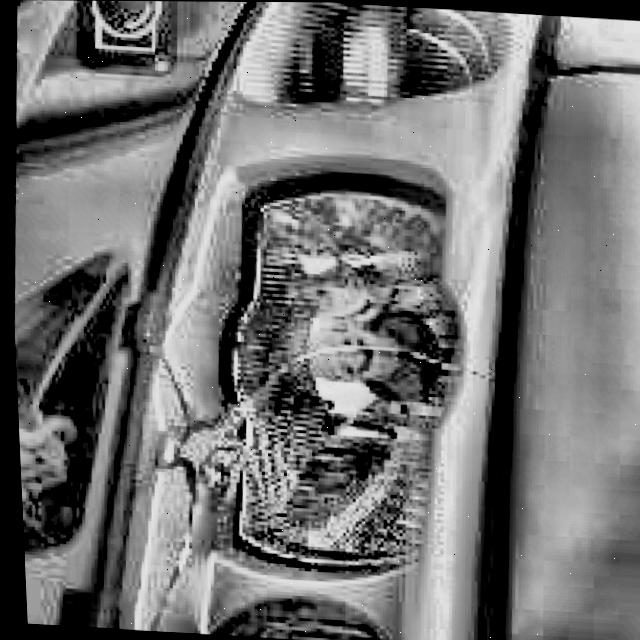head_lamp: (207, 165, 473, 574)
